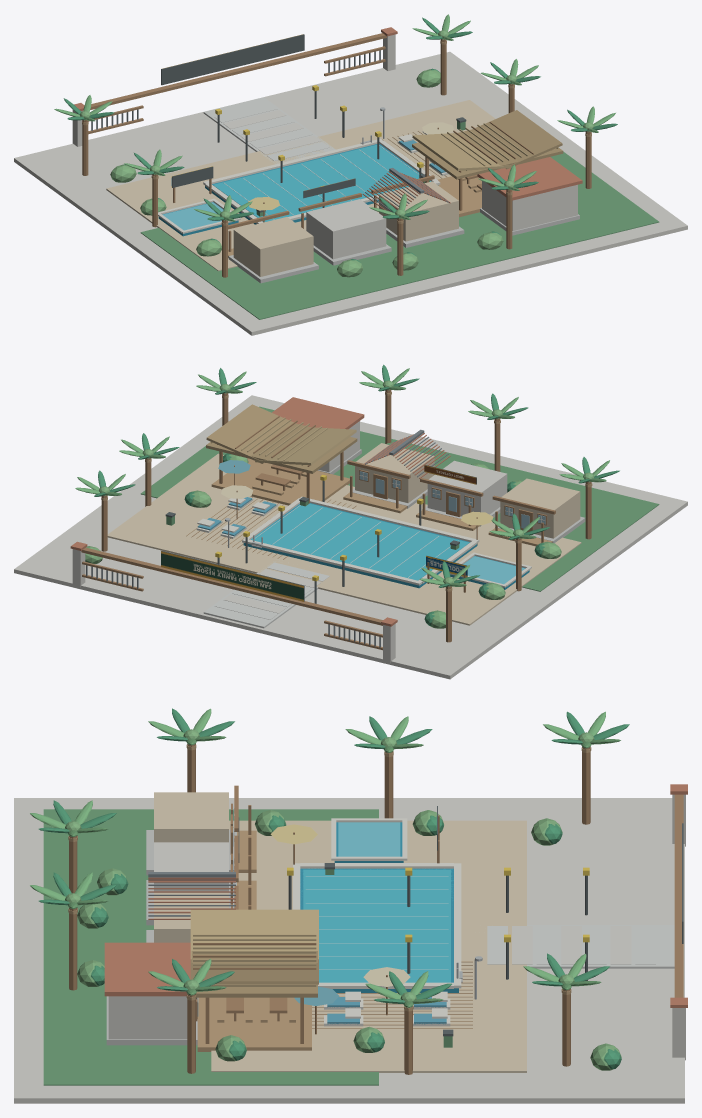
Rendered from San_Isidro_Family_Resort_Swimming_Pool.glb.
The picture shows the model from 3 angles, top to bottom: view 1: azimuth 30°, elevation 25°; view 2: azimuth 150°, elevation 25°; view 3: azimuth 270°, elevation 25°; orthographic projection. The views are drawn at different scales.
Visible parts, largest first — view 1: 0001_Resort_Site_Pad, 0002_Resort_Grass_Garden, 0003_Pool_Deck, 0026_Main_Pool_Water_Surface, 0092_Cottage_01_Walls, 0137_Cottage_02_Walls, 0229_Reception_Walls, 0182_Cottage_03_Walls, 0055_Resort_Gate_Sign_Backing, 0246_Pavilion_Roof_Right_Slope, 0230_Reception_Roof, 0054_Resort_Entrance_Gate_Beam (+11 smaller); view 2: 0001_Resort_Site_Pad, 0003_Pool_Deck, 0026_Main_Pool_Water_Surface, 0002_Resort_Grass_Garden, 0092_Cottage_01_Walls, 0239_Open_Air_Pavilion_Deck, 0137_Cottage_02_Walls, 0182_Cottage_03_Walls, 0056_Resort_Gate_Sign_TexturedFace, 0246_Pavilion_Roof_Right_Slope, 0054_Resort_Entrance_Gate_Beam, 0230_Reception_Roof (+10 smaller); view 3: 0001_Resort_Site_Pad, 0003_Pool_Deck, 0002_Resort_Grass_Garden, 0026_Main_Pool_Water_Surface, 0245_Pavilion_Roof_Left_Slope, 0239_Open_Air_Pavilion_Deck, 0230_Reception_Roof, 0092_Cottage_01_Walls, 0229_Reception_Walls, 0137_Cottage_02_Walls, 0083_Resort_Entrance_Walkway, 0244_Pavilion_Roof_Base (+25 smaller).
Part boxes in pixels (bbox=[...]): 0001_Resort_Site_Pad: bbox=[14, 51, 687, 335]; 0002_Resort_Grass_Garden: bbox=[140, 151, 659, 319]; 0003_Pool_Deck: bbox=[106, 100, 495, 271]; 0026_Main_Pool_Water_Surface: bbox=[213, 144, 419, 221]; 0092_Cottage_01_Walls: bbox=[233, 217, 313, 276]; 0137_Cottage_02_Walls: bbox=[306, 199, 386, 259]; 0229_Reception_Walls: bbox=[482, 181, 577, 230]; 0182_Cottage_03_Walls: bbox=[379, 181, 458, 241]; 0055_Resort_Gate_Sign_Backing: bbox=[161, 34, 304, 85]; 0246_Pavilion_Roof_Right_Slope: bbox=[475, 110, 562, 169]; 0230_Reception_Roof: bbox=[477, 157, 582, 200]; 0054_Resort_Entrance_Gate_Beam: bbox=[90, 33, 386, 109]; 0001_Resort_Site_Pad: bbox=[14, 395, 687, 679]; 0003_Pool_Deck: bbox=[107, 453, 581, 625]; 0026_Main_Pool_Water_Surface: bbox=[252, 503, 469, 580]; 0002_Resort_Grass_Garden: bbox=[140, 406, 659, 591]; 0092_Cottage_01_Walls: bbox=[500, 478, 580, 538]; 0239_Open_Air_Pavilion_Deck: bbox=[211, 458, 349, 505]; 0137_Cottage_02_Walls: bbox=[427, 460, 507, 516]; 0182_Cottage_03_Walls: bbox=[355, 443, 434, 502]; 0056_Resort_Gate_Sign_TexturedFace: bbox=[161, 551, 303, 601]; 0246_Pavilion_Roof_Right_Slope: bbox=[206, 404, 293, 463]; 0054_Resort_Entrance_Gate_Beam: bbox=[81, 547, 382, 625]; 0230_Reception_Roof: bbox=[272, 397, 364, 429]; 0001_Resort_Site_Pad: bbox=[14, 798, 684, 1103]; 0003_Pool_Deck: bbox=[211, 820, 526, 1072]; 0002_Resort_Grass_Garden: bbox=[43, 809, 378, 1085]; 0026_Main_Pool_Water_Surface: bbox=[303, 869, 450, 982]; 0245_Pavilion_Roof_Left_Slope: bbox=[190, 909, 318, 959]; 0239_Open_Air_Pavilion_Deck: bbox=[197, 997, 311, 1051]; 0230_Reception_Roof: bbox=[104, 942, 190, 996]; 0092_Cottage_01_Walls: bbox=[154, 792, 228, 842]; 0229_Reception_Walls: bbox=[108, 996, 187, 1039]; 0137_Cottage_02_Walls: bbox=[154, 842, 228, 891]; 0083_Resort_Entrance_Walkway: bbox=[527, 925, 674, 968]; 0244_Pavilion_Roof_Base: bbox=[191, 951, 317, 997].
Bounding box in the file's own units: 36 × 5.92 × 34.15.
4 materials, 4 textured.
